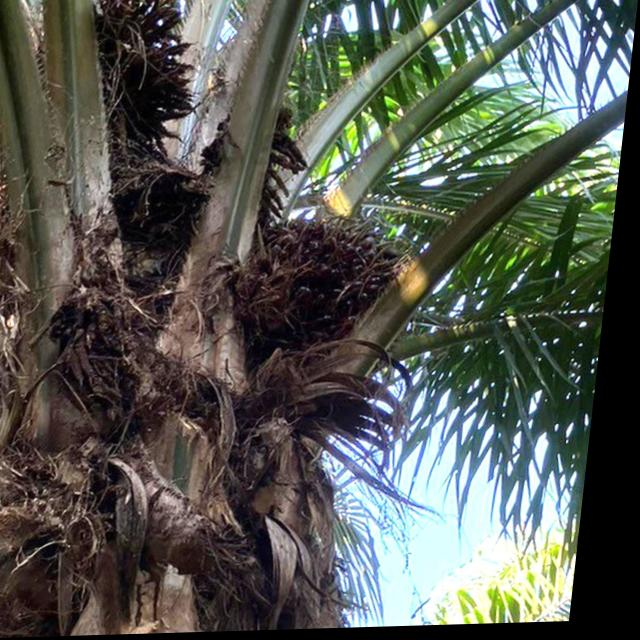ripe: (235, 205, 432, 368)
